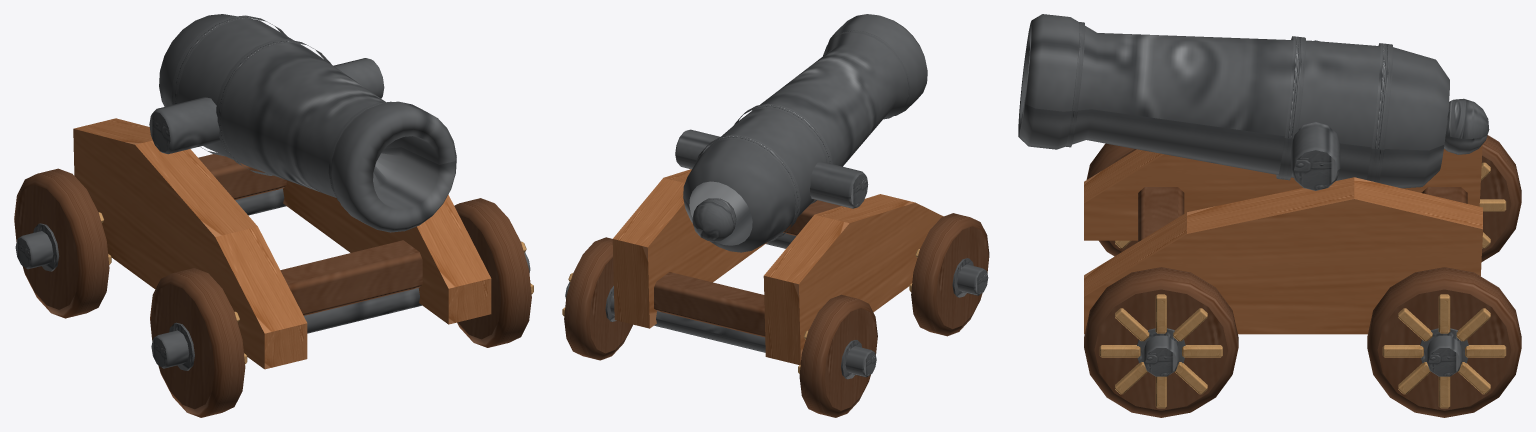
File: SM_Cannon.glb
3 views of the same model, side by side, from view 1: azimuth 30°, elevation 25°; view 2: azimuth 150°, elevation 25°; view 3: azimuth 270°, elevation 25° (orthographic). The views are drawn at different scales.
Visible parts, largest first — view 1: SM_Cannon; view 2: SM_Cannon; view 3: SM_Cannon.
Boxes of the visible parts, <box> form: SM_Cannon: <box>14,14,533,417</box>; SM_Cannon: <box>562,14,989,417</box>; SM_Cannon: <box>1018,14,1521,417</box>.
Size of the model in its own units: 1.7 by 1.37 by 1.96.
Materials: 1 (1 with a texture image).
